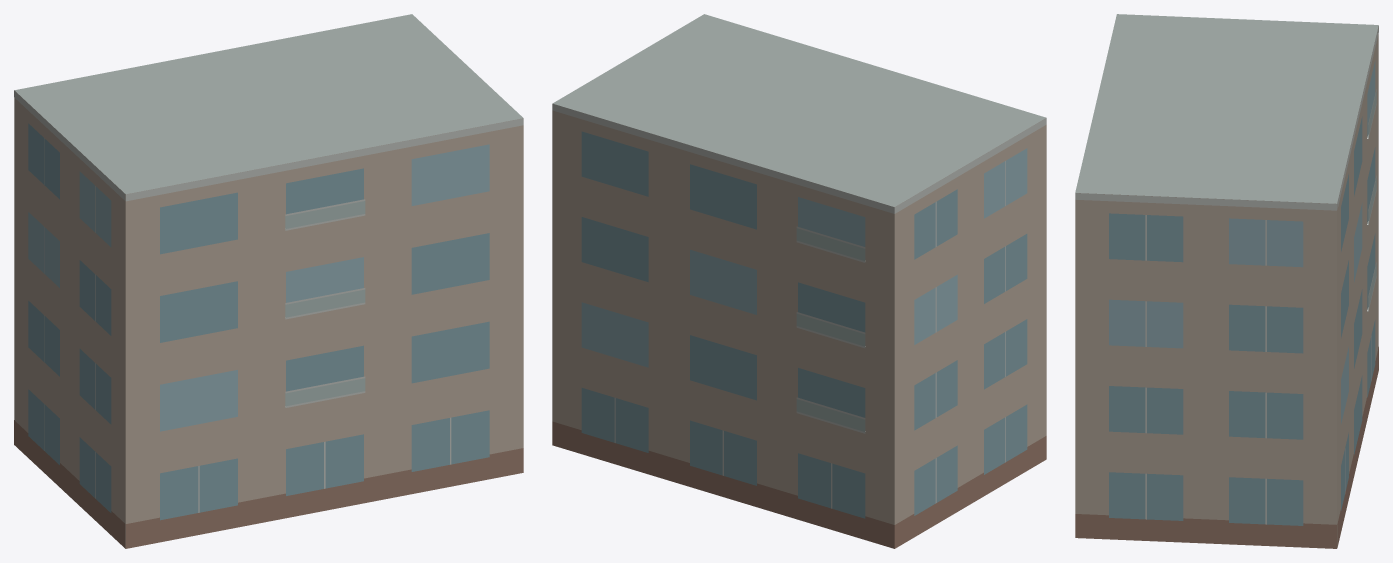
The model's file is residential-18140ee3-8404-42cf-b5ac-f61ad43bcd5d.glb.
The picture shows the model from 3 angles, left to right: view 1: azimuth 30°, elevation 25°; view 2: azimuth 150°, elevation 25°; view 3: azimuth 270°, elevation 25°; orthographic projection. The views are drawn at different scales.
Visible parts, largest first — view 1: residential-18140ee3-8404-42cf-b5ac-f61ad43bcd5d.tmp; view 2: residential-18140ee3-8404-42cf-b5ac-f61ad43bcd5d.tmp; view 3: residential-18140ee3-8404-42cf-b5ac-f61ad43bcd5d.tmp.
Boxes of the visible parts, <box> form: residential-18140ee3-8404-42cf-b5ac-f61ad43bcd5d.tmp: <box>14,14,523,548</box>; residential-18140ee3-8404-42cf-b5ac-f61ad43bcd5d.tmp: <box>552,14,1046,548</box>; residential-18140ee3-8404-42cf-b5ac-f61ad43bcd5d.tmp: <box>1075,14,1378,548</box>.
Bounding box in the file's own units: 14.4 × 12.2 × 9.74.
